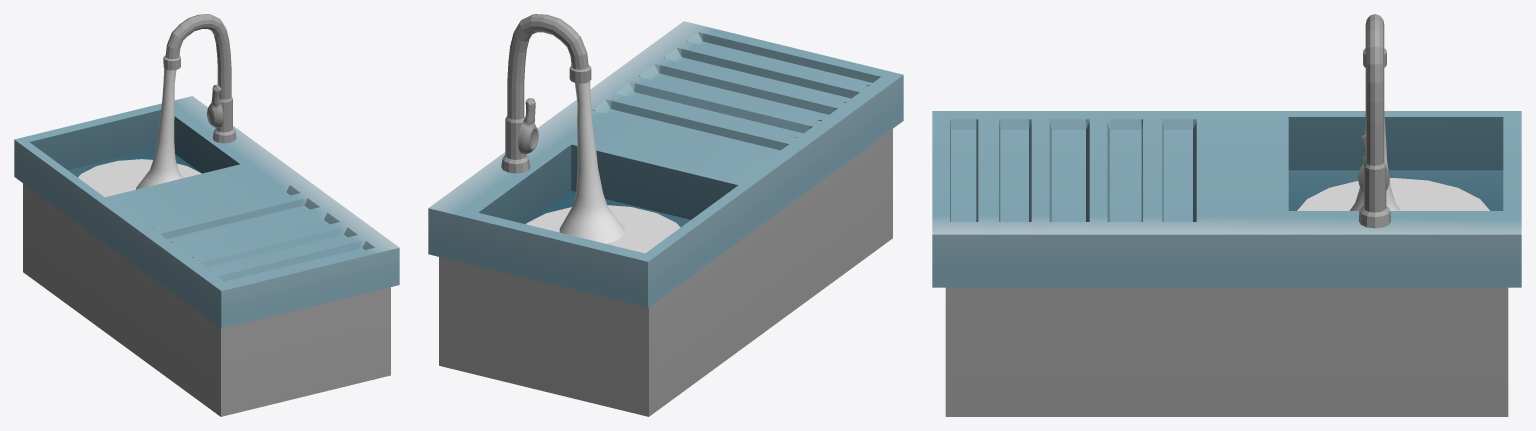
The model's file is grifo.fbx.
The picture shows the model from 3 angles, left to right: view 1: azimuth 30°, elevation 25°; view 2: azimuth 150°, elevation 25°; view 3: azimuth 270°, elevation 25°; orthographic projection. The views are drawn at different scales.
Parts seen in each view (by area): view 1: Fregadero, Cylinder001, Cylinder002; view 2: Fregadero, Cylinder001, Cylinder002; view 3: Fregadero, Cylinder002, Cylinder001.
Part boxes in pixels (x1,y1,x2,y2): Fregadero: (14, 14, 399, 416); Cylinder001: (136, 69, 182, 189); Cylinder002: (78, 159, 201, 197); Fregadero: (428, 14, 903, 416); Cylinder001: (559, 81, 624, 243); Cylinder002: (526, 205, 680, 253); Fregadero: (932, 14, 1521, 416); Cylinder002: (1297, 178, 1489, 210); Cylinder001: (1349, 113, 1400, 210).
Bounding box in the file's own units: 21.98 × 30.6 × 44.26.
